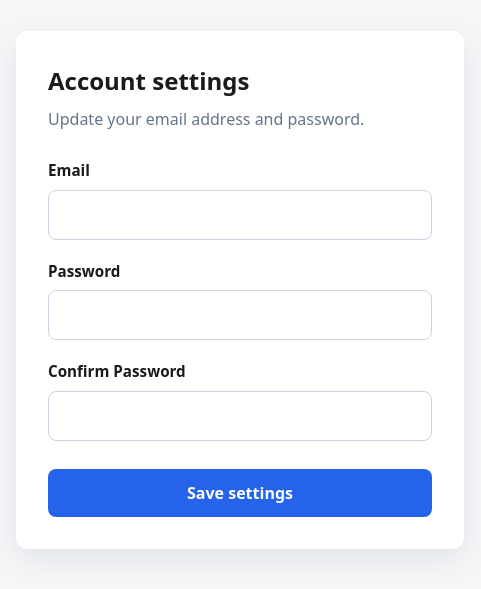
SettingsForm › shows an error when passwords do not match
Type "user@example.com" into the field labelled "Email" at (240, 215), box [48, 190, 432, 240]
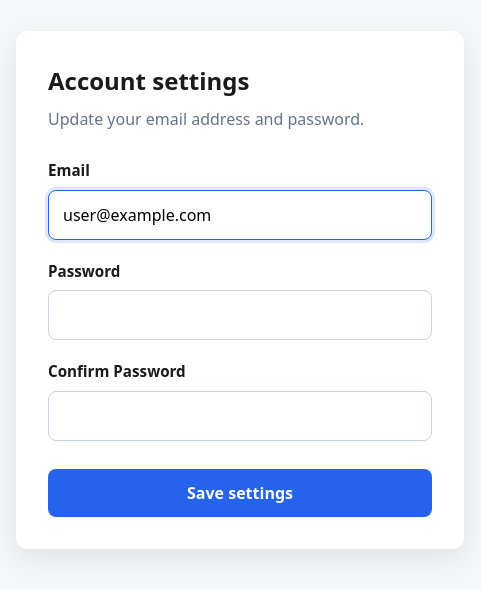
Type "Password1" into the password field labelled "Password" at (240, 315), box [48, 290, 432, 340]
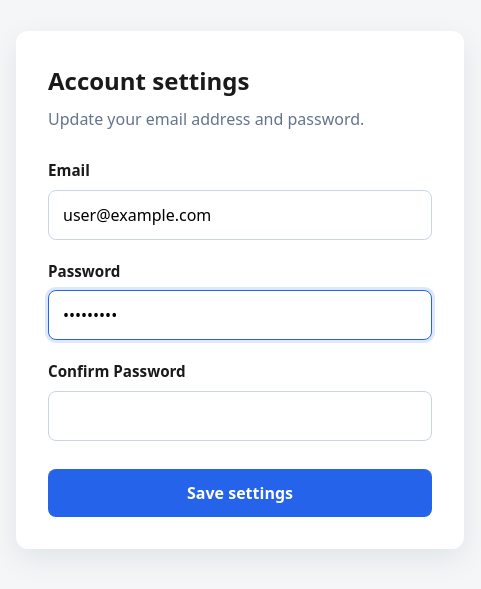
Type "Password2" into the password field labelled "Confirm Password" at (240, 416), box [48, 391, 432, 441]
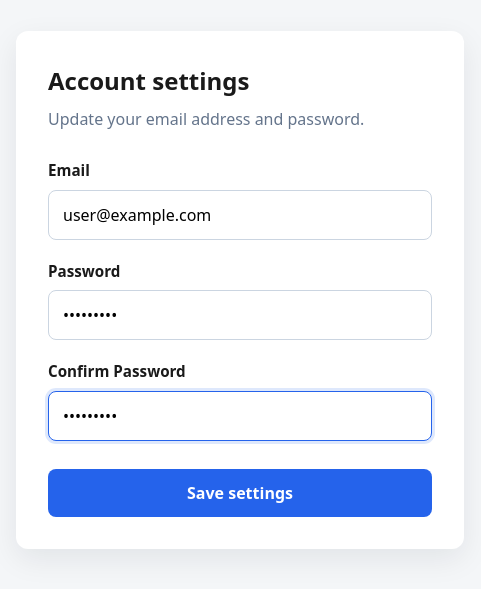
Click the button "Save settings" at (240, 493), box [48, 469, 432, 517]
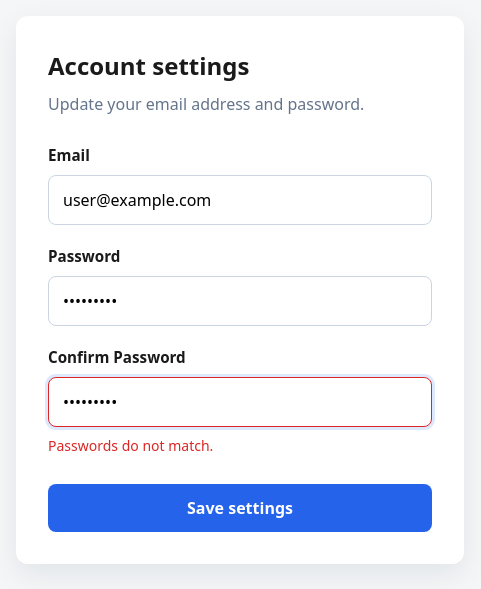
Expected: the text "Passwords do not match." is shown, [48, 436, 213, 455]
